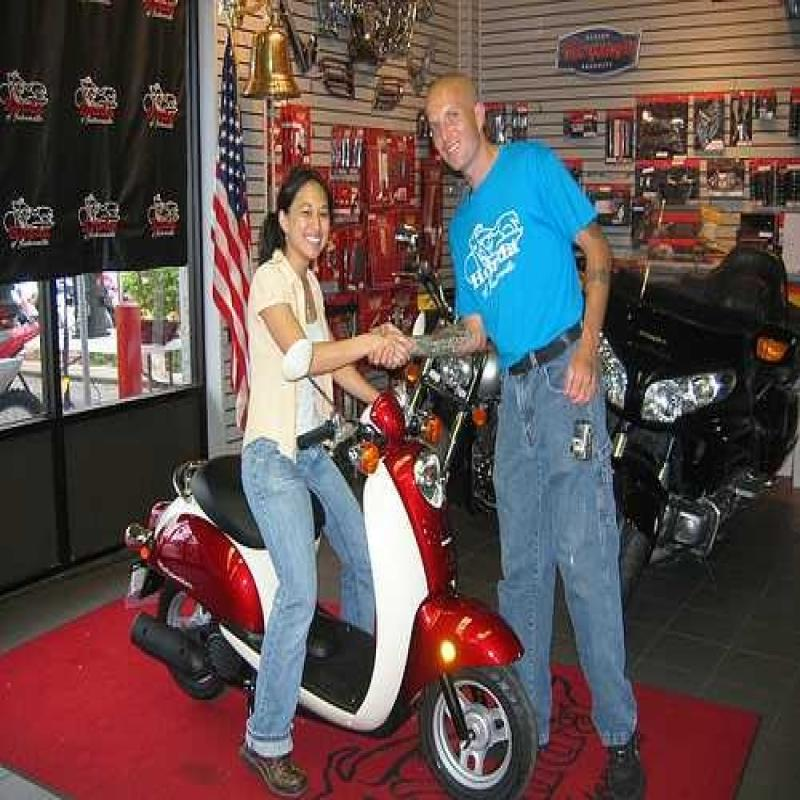bike: (308, 359, 553, 800)
